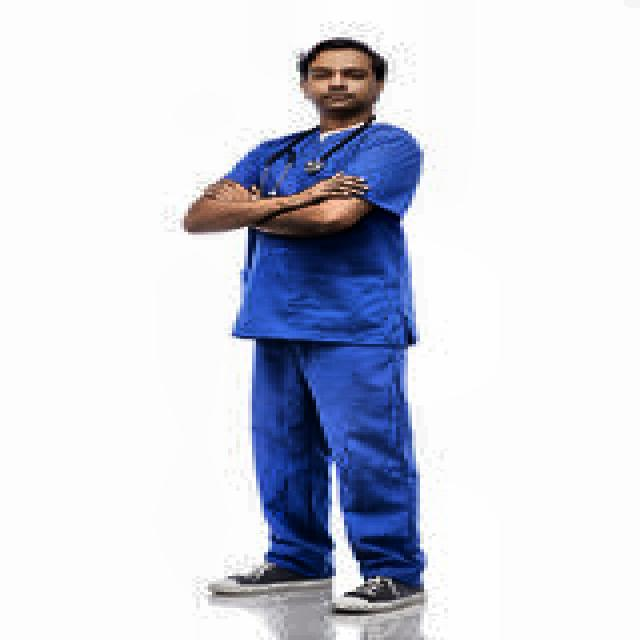Human: (161, 23, 473, 628)
